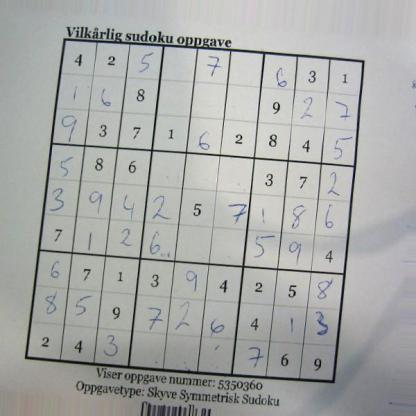sudoku: (24, 36, 366, 388)
